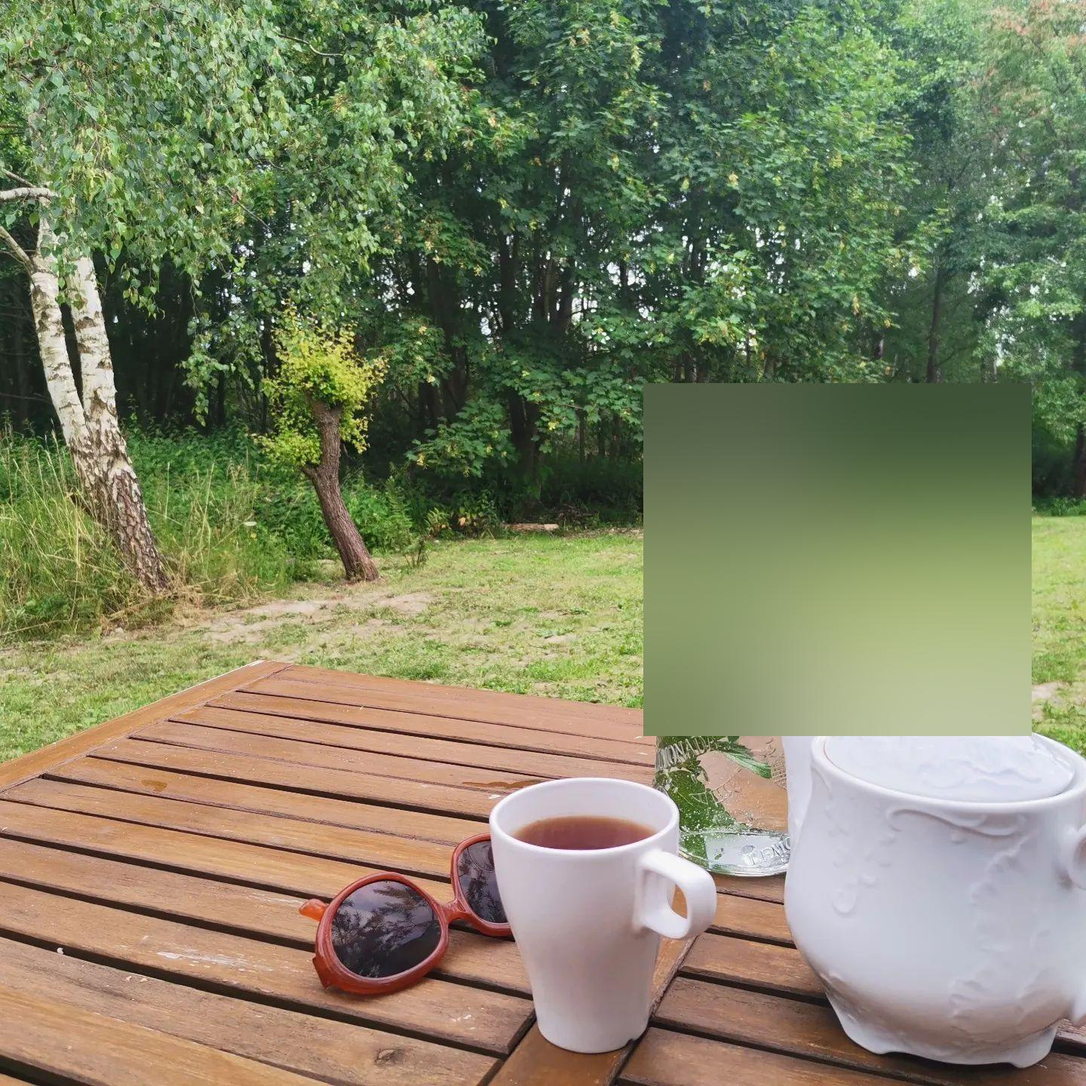cup-handle: (489, 775, 723, 1058)
